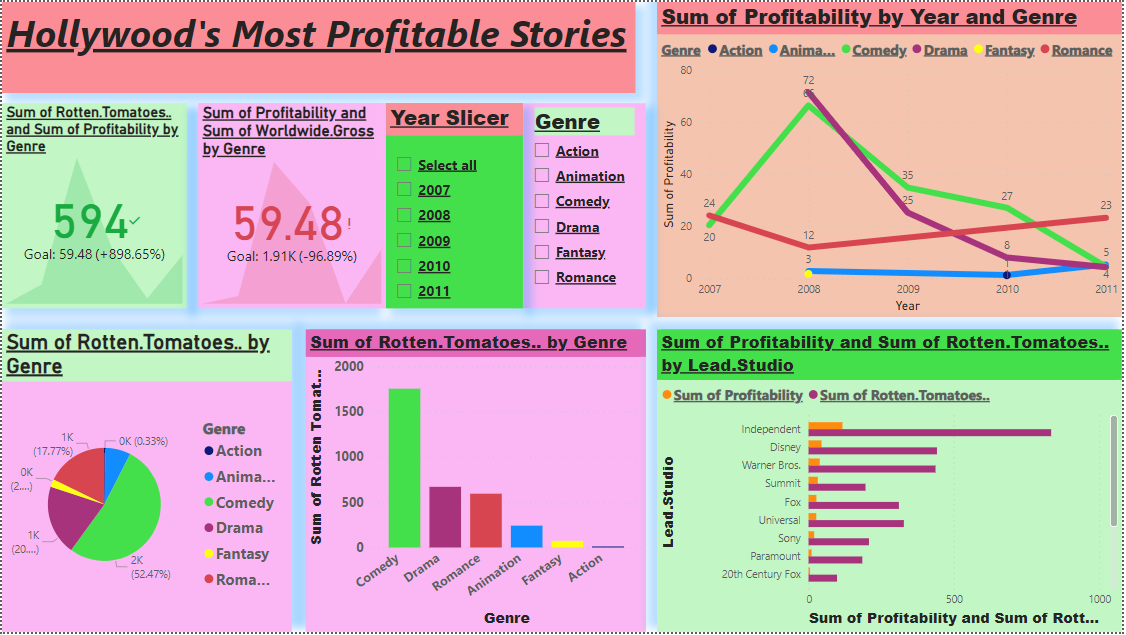

Layout of this report page (visuals, bound fields, positions):
{"tool":"powerbi","page":{"name":"Hollywoods Most Profitable Stories","canvas":[1280,720],"ordinal":0},"visuals":[{"type":"clusteredColumnChart","fields":{"Category":["clean_df.Genre"],"Y":["Sum(clean_df.Rotten.Tomatoes..)"]},"box":[347.1,374.3,388.6,345.7],"z":0},{"type":"lineChart","fields":{"Category":["clean_df.Year"],"Y":["Sum(clean_df.Profitability)"],"Series":["clean_df.Genre"]},"box":[748.6,0,531.4,360],"z":1},{"type":"textbox","box":[0,0,724.3,104.3],"z":2},{"type":"pieChart","fields":{"Series":["clean_df.Genre"],"Y":["Sum(clean_df.Rotten.Tomatoes..)"]},"box":[0,374.3,331.4,345.7],"z":3},{"type":"slicer","fields":{"Values":["clean_df.Genre"]},"box":[595.7,115.7,140,234.3],"z":4},{"type":"slicer","title":"Year Slicer","fields":{"Values":["clean_df.Year"]},"box":[438.6,115.7,157.1,234.3],"z":5},{"type":"kpi","fields":{"Indicator":["Sum(clean_df.Rotten.Tomatoes..)"],"Goal":["Sum(clean_df.Profitability)"],"TrendLine":["clean_df.Genre"]},"box":[0,115.7,211.4,234.3],"z":6},{"type":"kpi","fields":{"TrendLine":["clean_df.Genre"],"Indicator":["Sum(clean_df.Profitability)"],"Goal":["Sum(clean_df.Worldwide.Gross)"]},"box":[224.3,115.7,214.3,234.3],"z":7},{"type":"clusteredBarChart","fields":{"Category":["clean_df.Lead.Studio"],"Y":["Sum(clean_df.Profitability)","Sum(clean_df.Rotten.Tomatoes..)"]},"box":[748.6,374.3,531.4,345.7],"z":8}]}

Visuals, with their boxes in screenshot pixels (x1, y1, x2, y2), scaled from the page's 1280x720 canvas onto the 1126x635 screenshot:
clusteredColumnChart - clean_df.Genre x Sum(clean_df.Rotten.Tomatoes..): [305,330,647,634]
lineChart - clean_df.Year x Sum(clean_df.Profitability): [659,0,1125,318]
textbox: [0,0,637,92]
pieChart - clean_df.Genre x Sum(clean_df.Rotten.Tomatoes..): [0,330,292,634]
slicer - clean_df.Genre: [524,102,647,309]
"Year Slicer" slicer: [386,102,524,309]
kpi - Sum(clean_df.Rotten.Tomatoes..) x Sum(clean_df.Profitability): [0,102,186,309]
kpi - clean_df.Genre x Sum(clean_df.Profitability): [197,102,386,309]
clusteredBarChart - clean_df.Lead.Studio x Sum(clean_df.Profitability): [659,330,1125,634]
